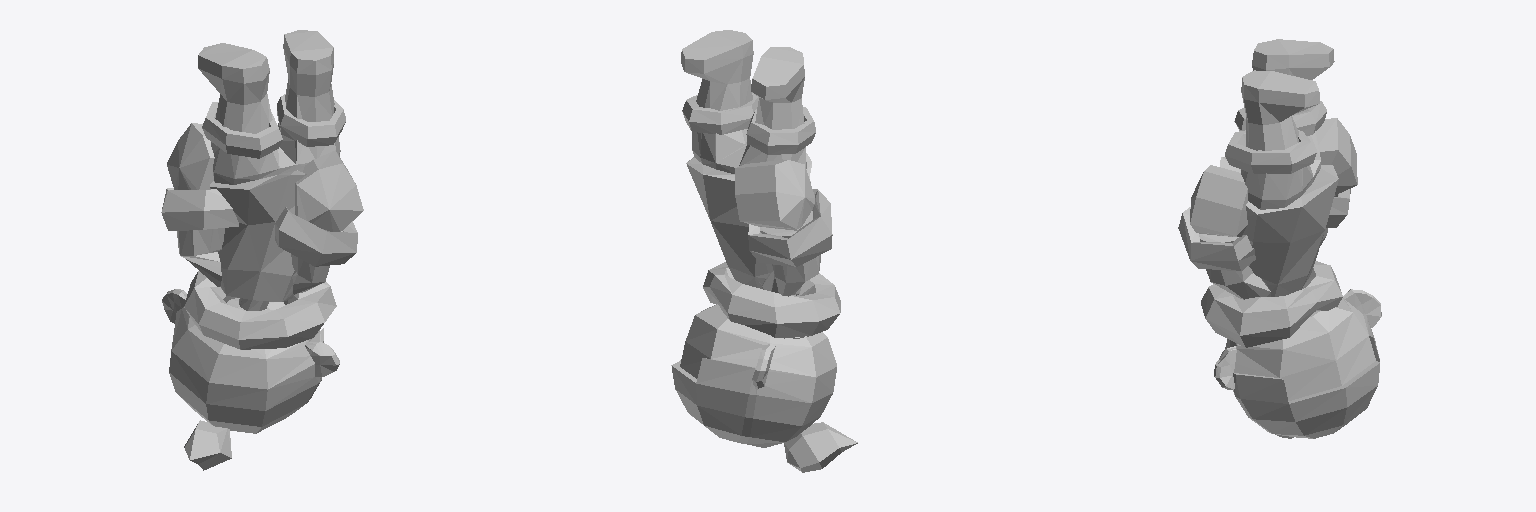
Rendered from eikastanding_000331.obj.
3 views of the same model, side by side, from view 1: azimuth 30°, elevation 25°; view 2: azimuth 150°, elevation 25°; view 3: azimuth 270°, elevation 25° (orthographic).
Parts seen in each view (by area): view 1: Cylinder; view 2: Cylinder; view 3: Cylinder.
Boxes of the visible parts, <box> form: Cylinder: <box>161,30,363,470</box>; Cylinder: <box>671,30,857,472</box>; Cylinder: <box>1178,39,1381,438</box>.
Size of the model in its own units: 22.92 by 55.8 by 25.38.